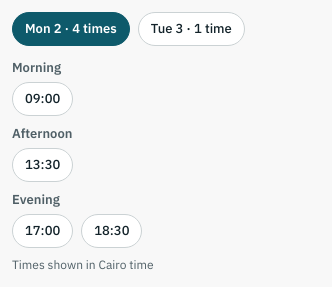
Scenario: SlotPicker › one click picks a time and shows it chosen; another day shows its own times
The width and height of the screenshot is (332, 287).
Click the radio button labelled "18:30". click: coordinates (112, 231)
box: [81,214,142,248]
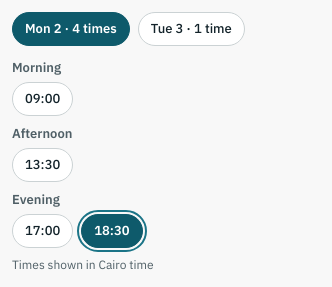
Expected: the radio button labelled "18:30" is checked, [81,214,142,248]
Click the radio button labelled "Tue 3 · 1 time". click: coordinates (191, 29)
box: [138,12,245,46]
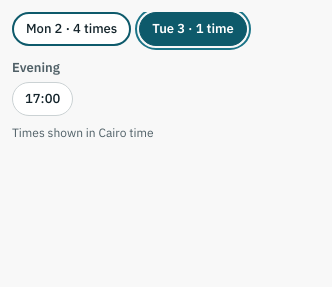
Expected: the text "Morning" is gone
